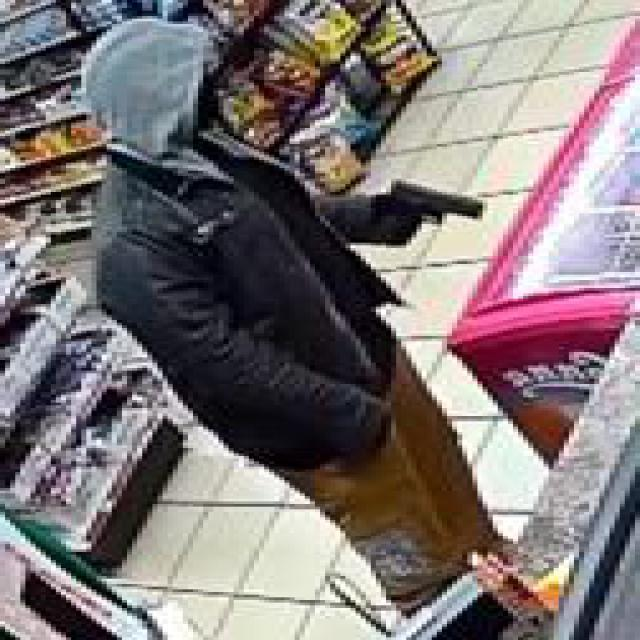Gun: (386, 176, 488, 243)
